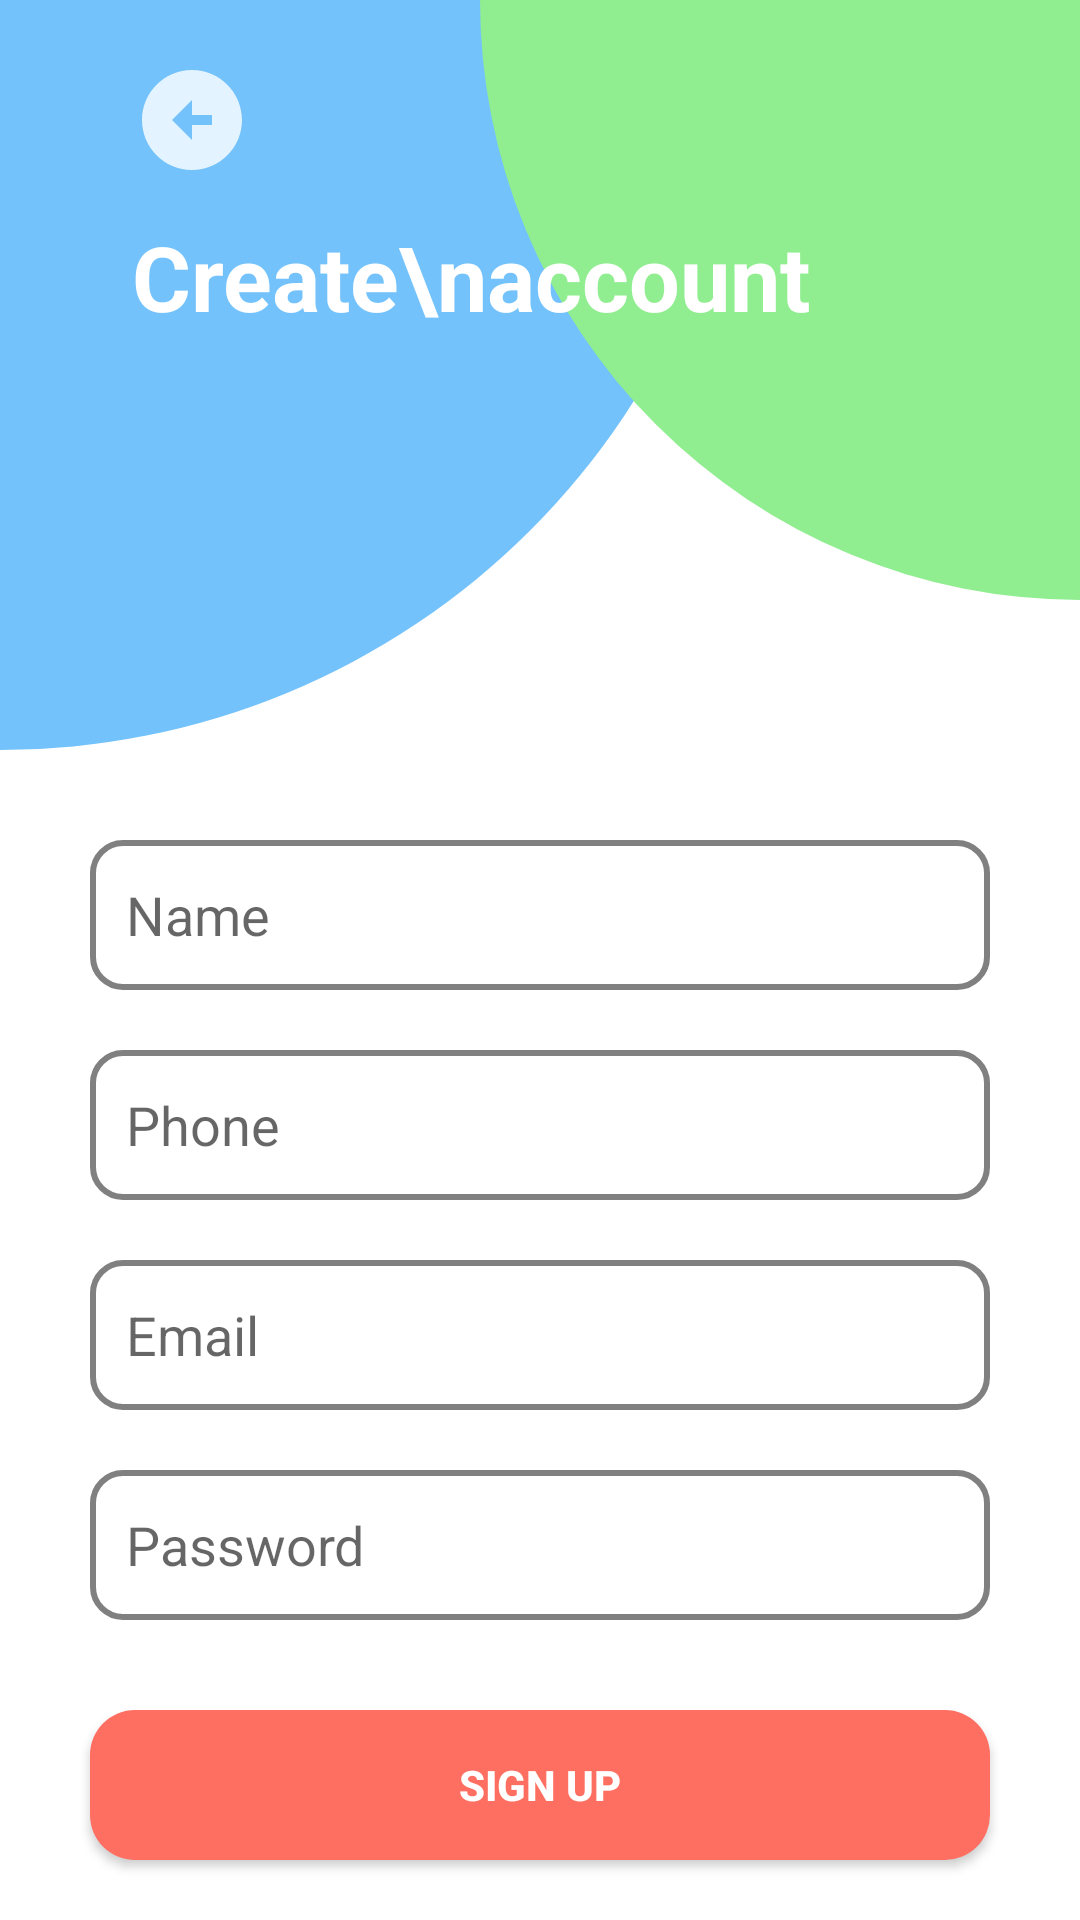

Screen size 1080*1920. Icon name, then its box in pixels as (x1, y1, x2, y2):
back: (142, 70, 242, 170)
